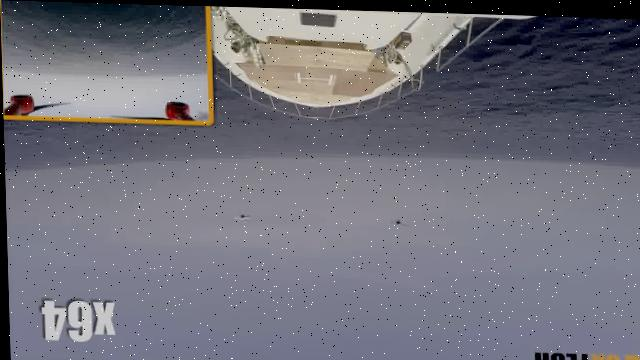drone: (0, 0, 640, 137)
